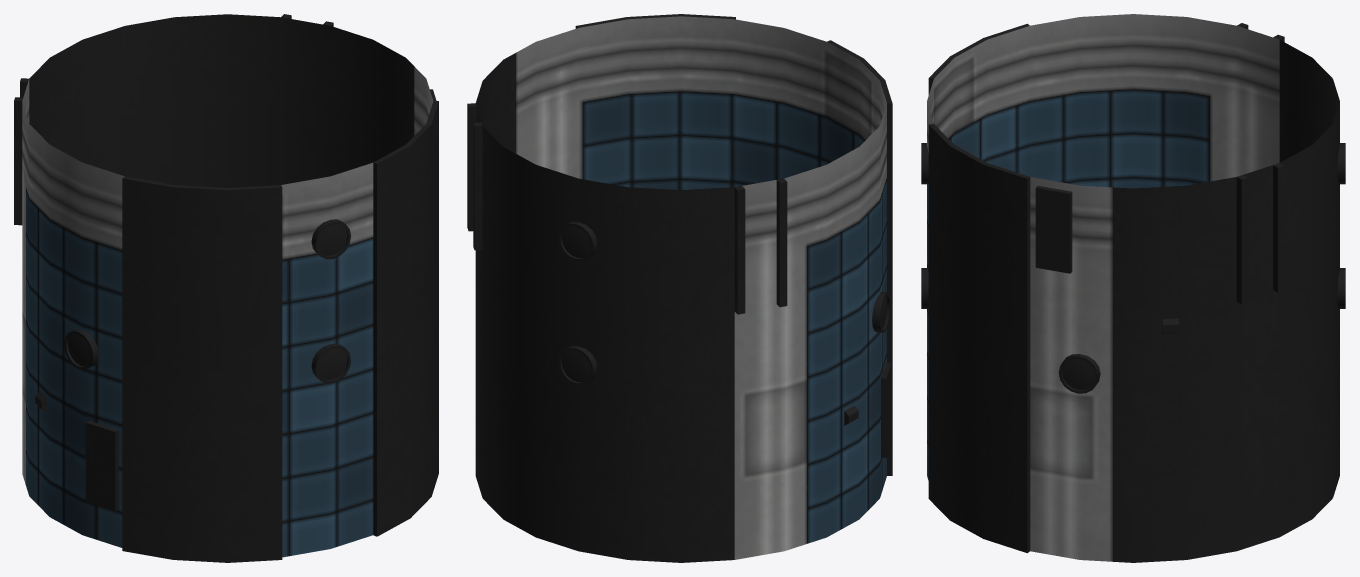
Rendered from vega_crew_s1p5_1.obj.
3 views of the same model, side by side, from view 1: azimuth 30°, elevation 25°; view 2: azimuth 150°, elevation 25°; view 3: azimuth 270°, elevation 25° (orthographic).
Visible parts, largest first — view 1: 1, w1; view 2: 1, w1; view 3: 1, w1.
Boxes of the visible parts, x1,y1,x2,y2 form: 1: (14, 14, 438, 562); w1: (68, 224, 347, 379); 1: (467, 14, 892, 562); w1: (561, 226, 887, 382); 1: (921, 14, 1345, 562); w1: (1062, 359, 1095, 389).
Size of the model in its own units: 1.91 by 1.88 by 1.92.
